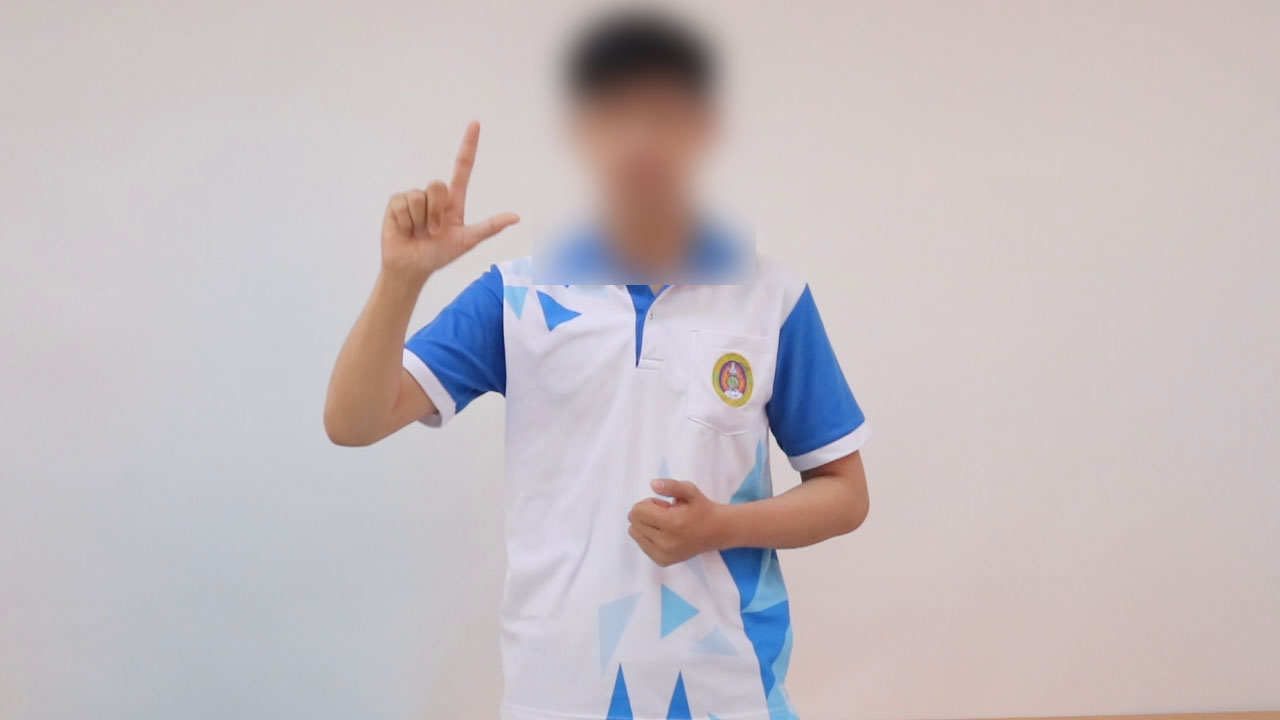lor: (355, 99, 535, 300)
